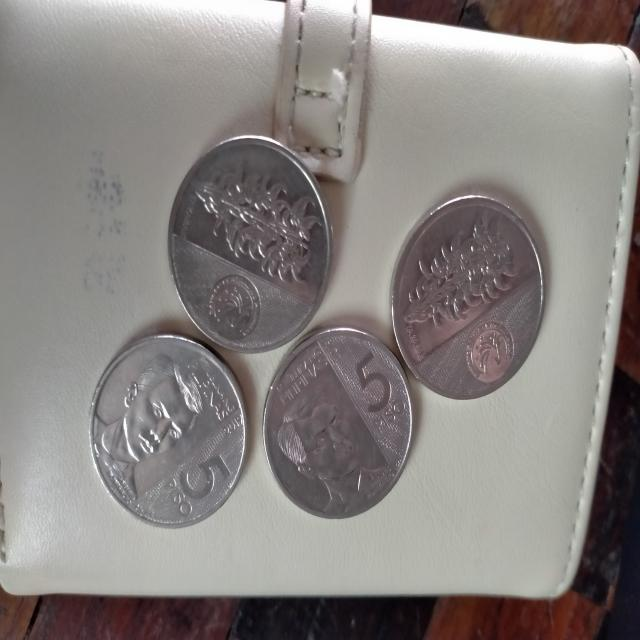5_New_Back: (186, 163, 330, 287), (397, 197, 520, 332)
5_New_Front: (347, 347, 412, 447), (158, 436, 230, 522)
